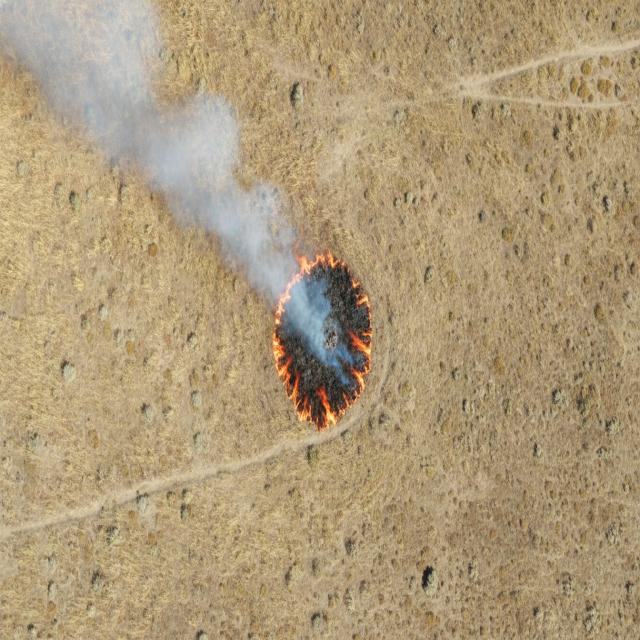wildfire: (233, 183, 377, 436)
